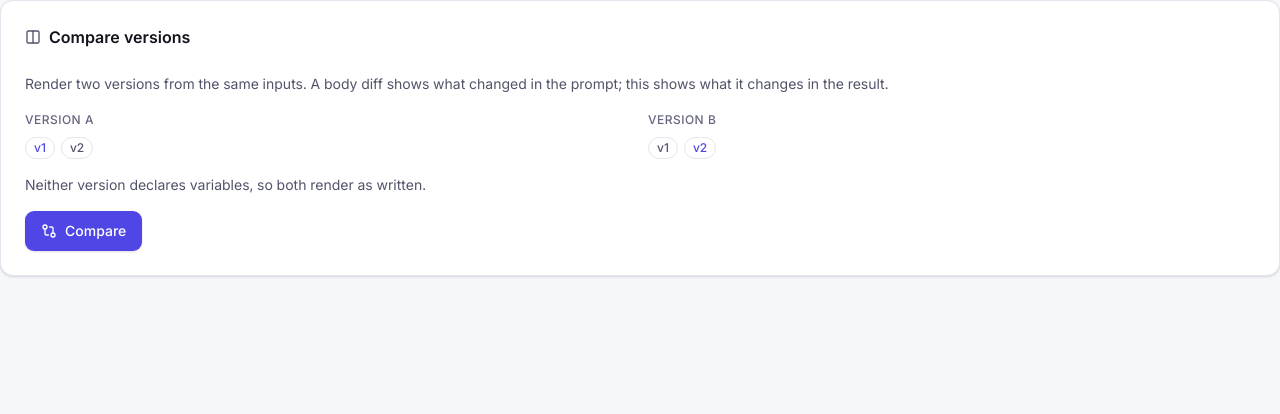
Test case: PromptComparison › says so when both versions render identically
The width and height of the screenshot is (1280, 414).
What coordinates should you click on to do the following:
click the button with test id "compare-submit"
I would click on:
 (84, 231)
Its box is x1=25 y1=211 x2=142 y2=251.
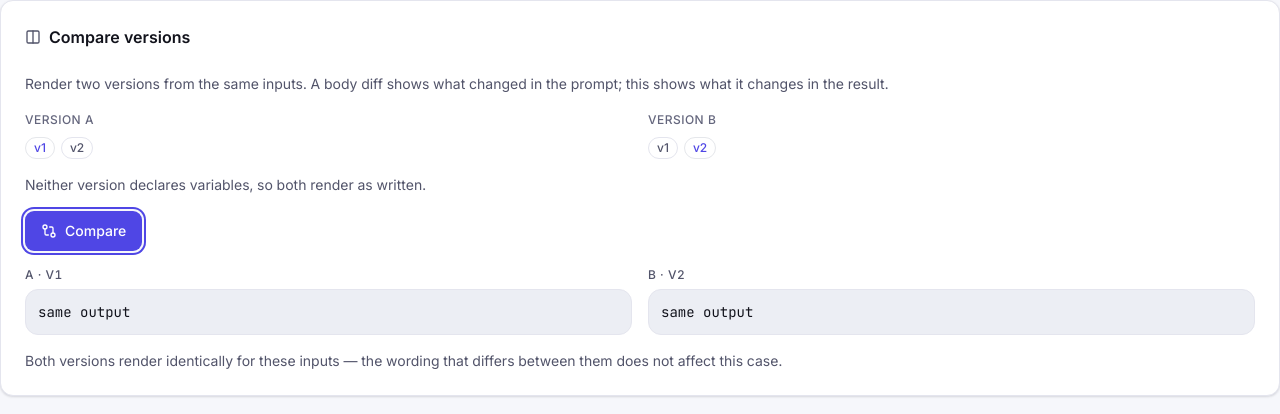
Result: the text with test id "compare-identical" is shown at x1=25 y1=352 x2=782 y2=369
